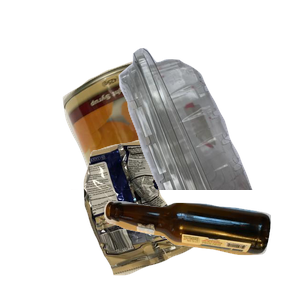glass: (101, 198, 300, 300)
metal: (60, 58, 300, 238)
plastic: (71, 45, 300, 225)
trash: (81, 137, 280, 300)
